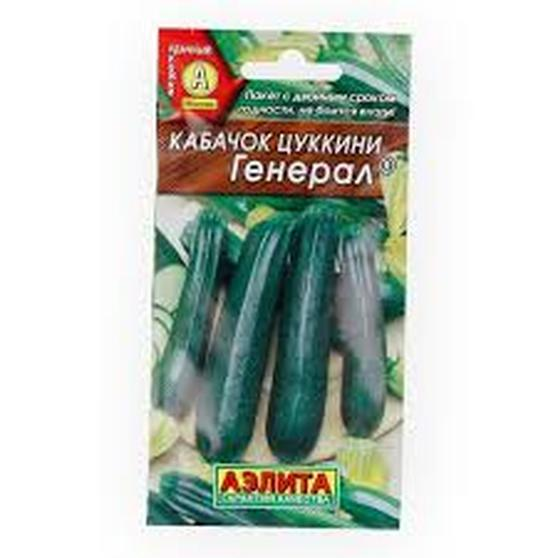zucchini: (259, 195, 349, 457)
